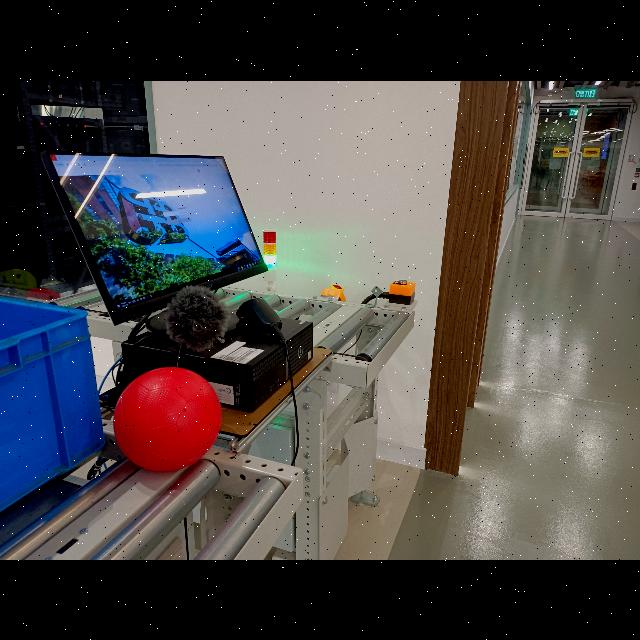R: (115, 366, 222, 470)
